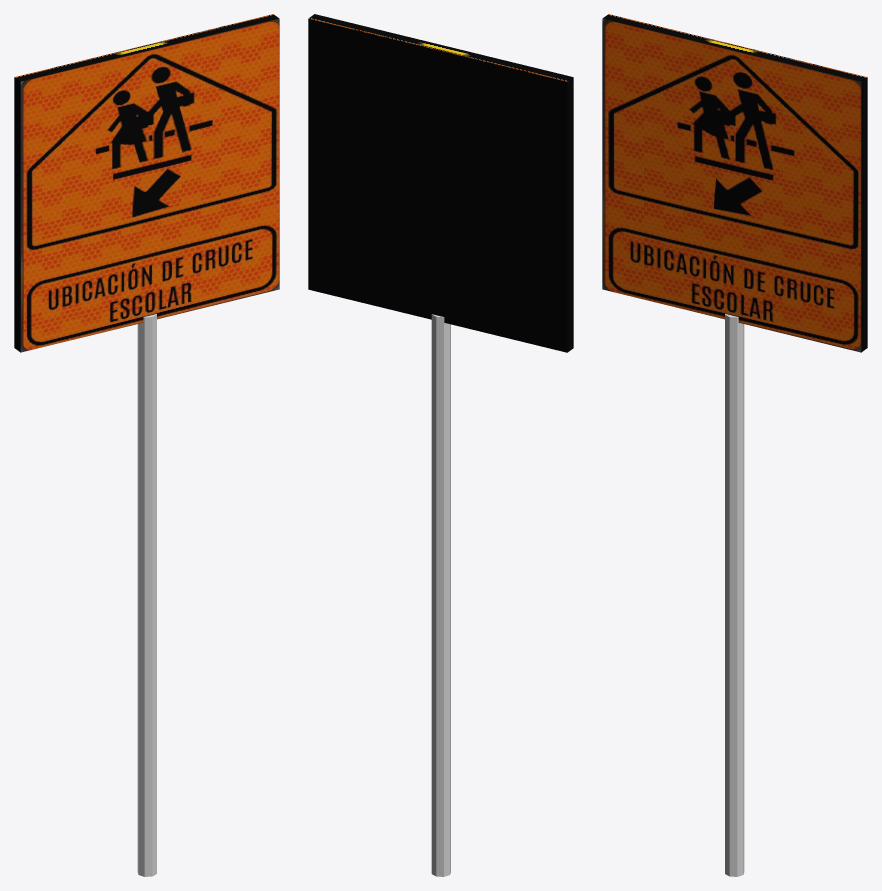
File: letrero de cruce escolar.fbx
3 renders of one model, left to right at view 1: azimuth 30°, elevation 25°; view 2: azimuth 150°, elevation 25°; view 3: azimuth 330°, elevation 25°, orthographic.
Visible parts, largest first — view 1: Cube, Cilindro; view 2: Cube, Cilindro; view 3: Cube, Cilindro.
Part boxes in pixels (x1,y1,x2,y2): Cube: (14,14,279,352); Cilindro: (137,314,156,876); Cube: (308,14,573,352); Cilindro: (431,314,450,876); Cube: (602,14,867,352); Cilindro: (725,314,744,876).
Bounding box in the file's own units: 200 × 609 × 13.57.
1 material, 1 textured.
